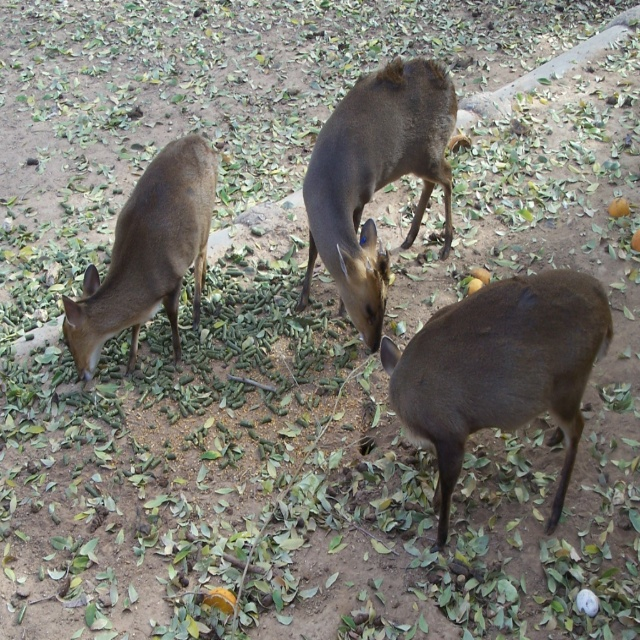Deer: (377, 265, 614, 555), (295, 55, 458, 353), (62, 134, 218, 383)
